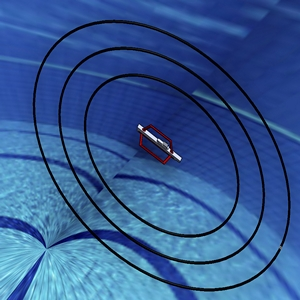circle: (18, 12, 295, 298)
submarine: (127, 119, 186, 175)
